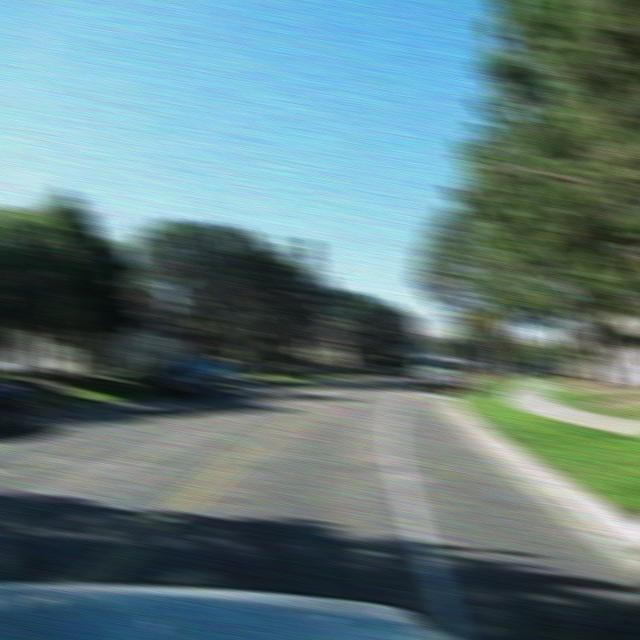pedestrianCrossing: (466, 300, 500, 334)
